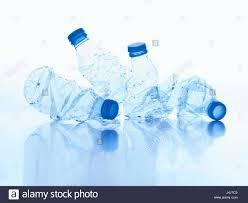Plastic: (23, 62, 121, 129), (66, 25, 140, 109), (153, 73, 234, 125), (124, 38, 164, 135)
